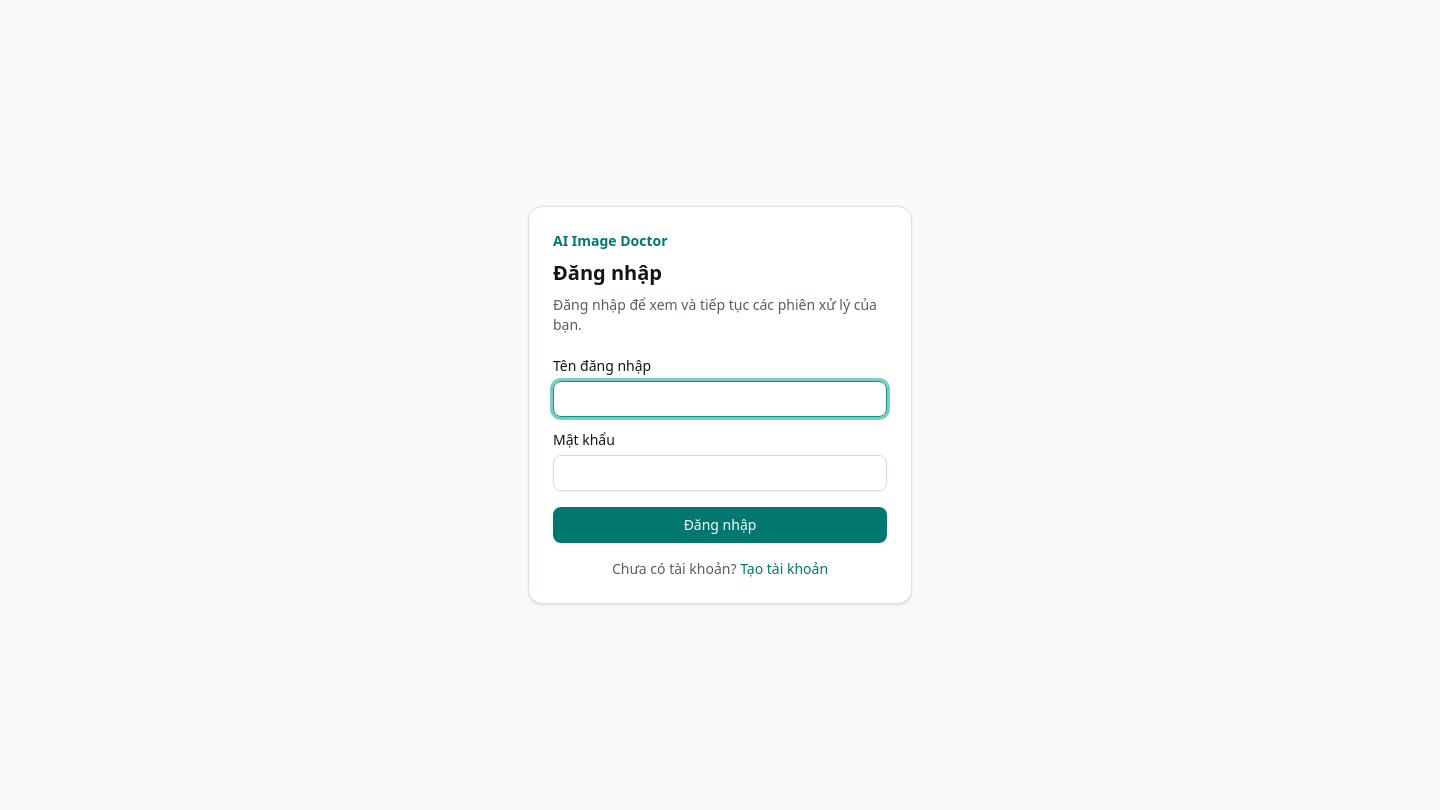
Test: login form › navigates to next after a successful login
In the field labelled "Tên đăng nhập": (720, 399) [553,381,887,417], type "alice"
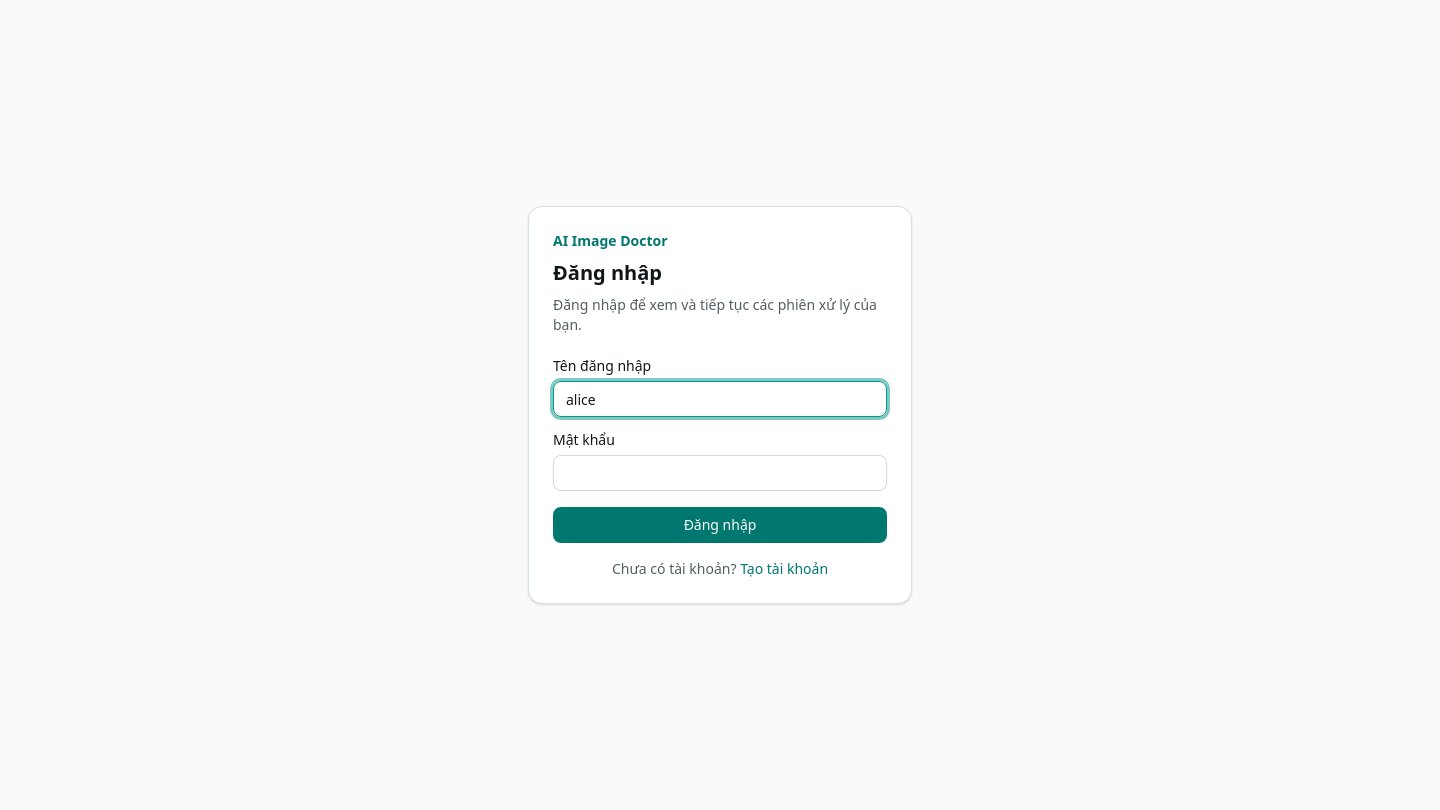
In the password field labelled "Mật khẩu": (720, 473) [553,455,887,491], type "password123"
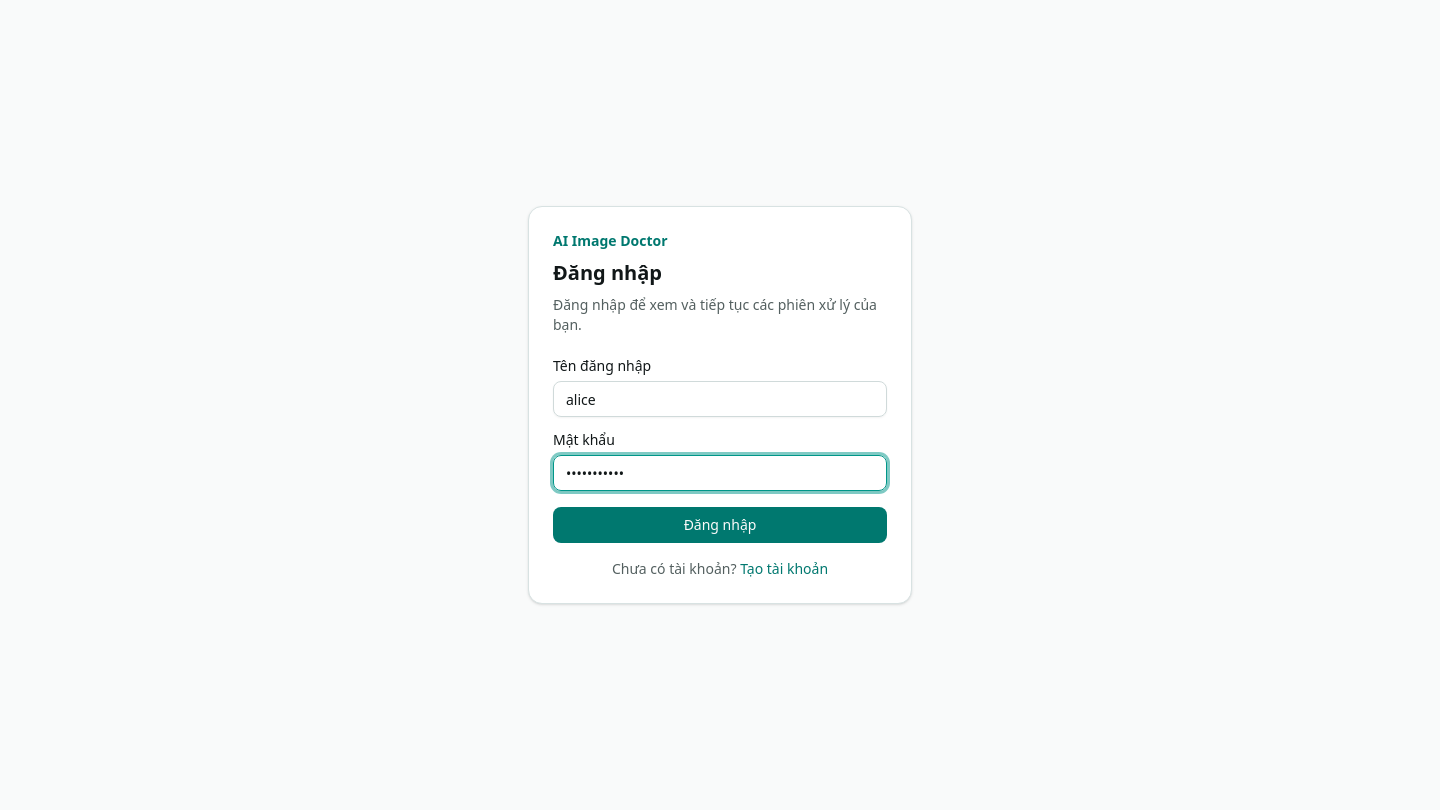
Click the button "Đăng nhập": (720, 525) [553,507,887,543]
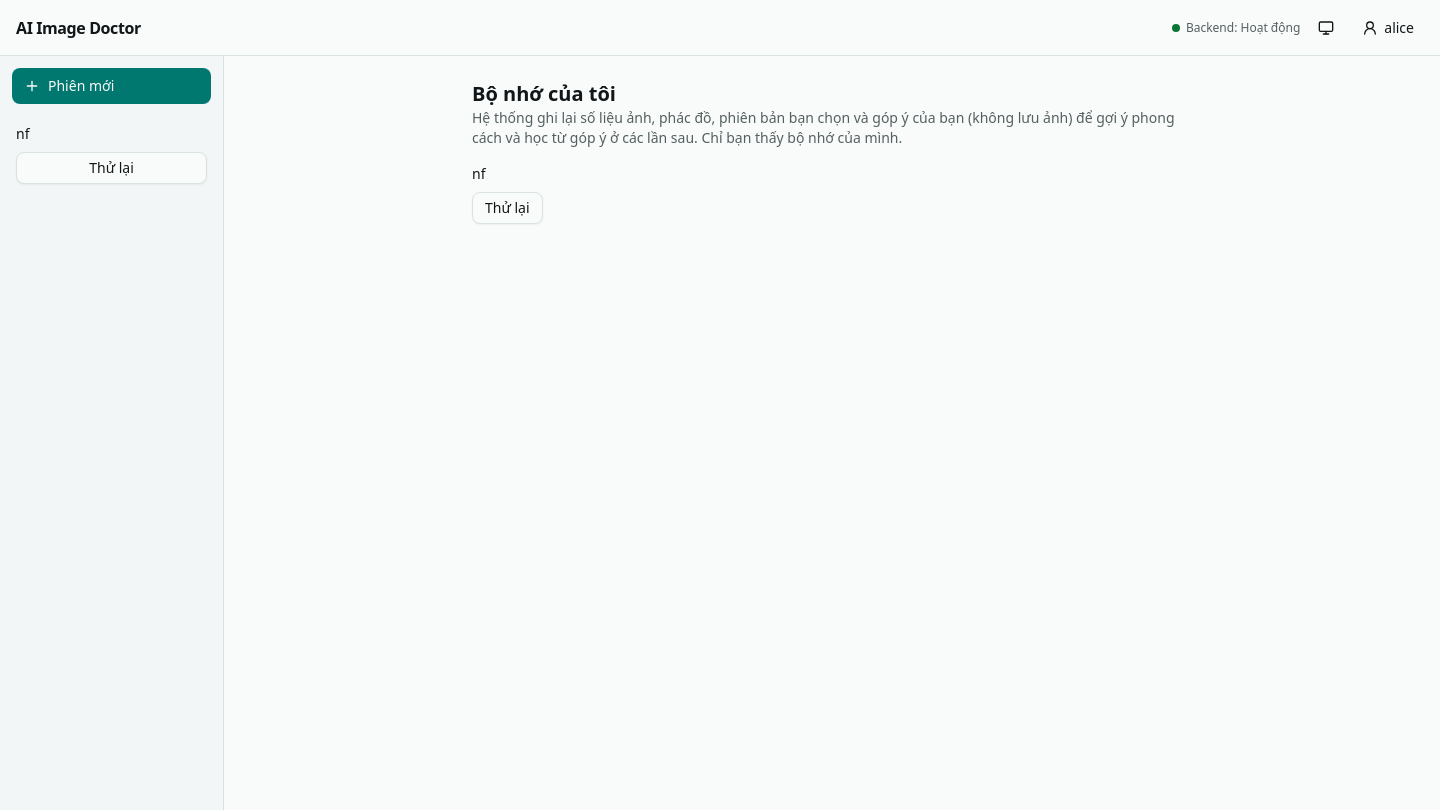
Expected: the heading "Bộ nhớ của tôi" is shown, [472,80,616,107]
